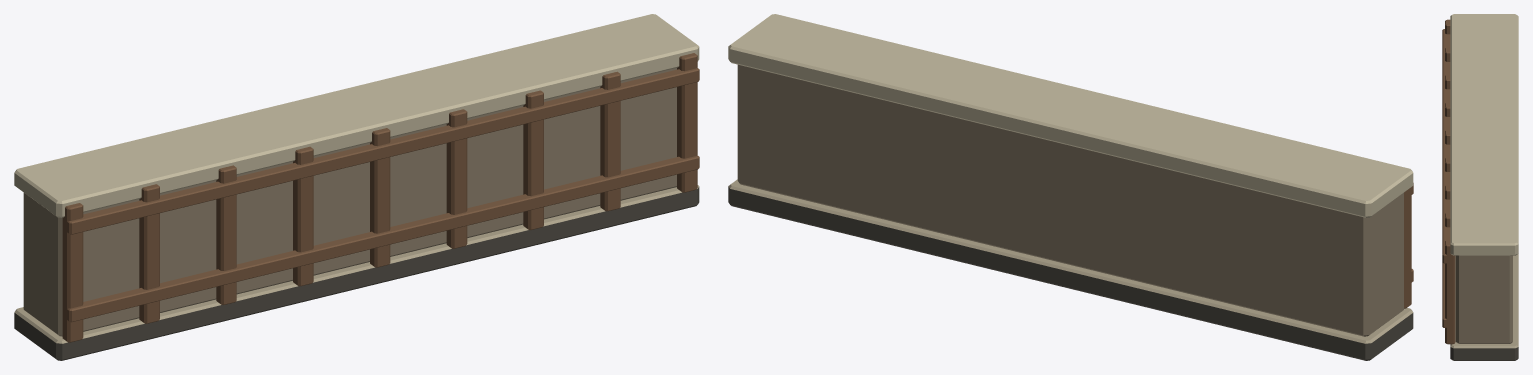
File: wall-long.glb
3 views of the same model, side by side, from view 1: azimuth 30°, elevation 25°; view 2: azimuth 150°, elevation 25°; view 3: azimuth 270°, elevation 25° (orthographic). The views are drawn at different scales.
Parts seen in each view (by area): view 1: wall-long__body; view 2: wall-long__body; view 3: wall-long__body.
Boxes of the visible parts, <box> form: wall-long__body: <box>14,14,699,360</box>; wall-long__body: <box>728,14,1413,360</box>; wall-long__body: <box>1442,14,1518,360</box>.
Bounding box in the file's own units: 4 × 0.95 × 0.5575.
